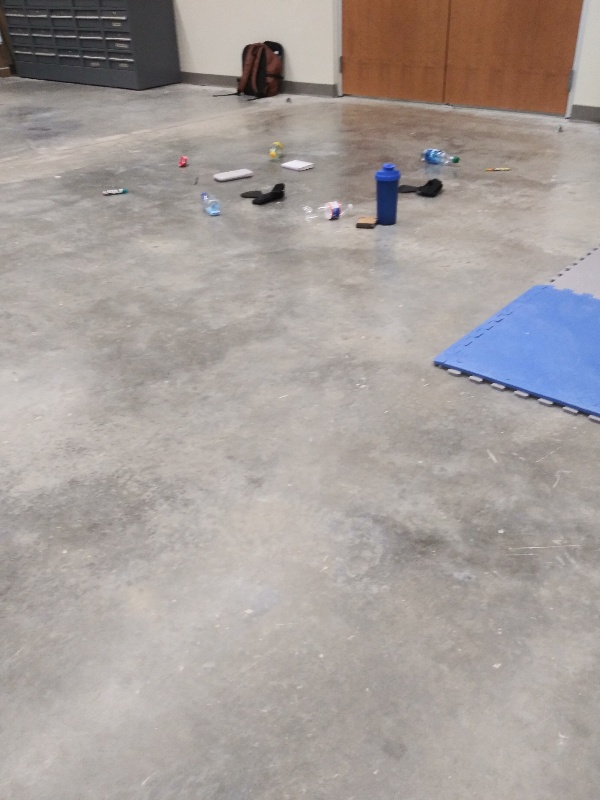bottle: (296, 197, 356, 229), (416, 146, 464, 172), (200, 187, 224, 218), (264, 141, 287, 162)
